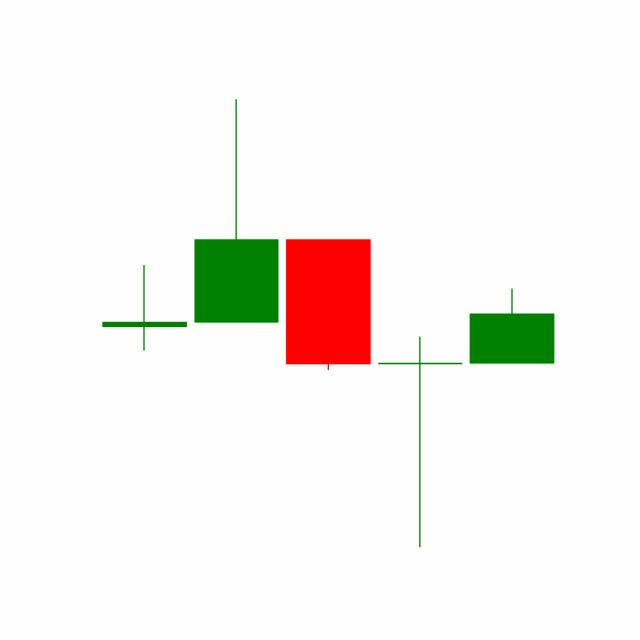Spinning Top: (373, 333, 467, 550)
